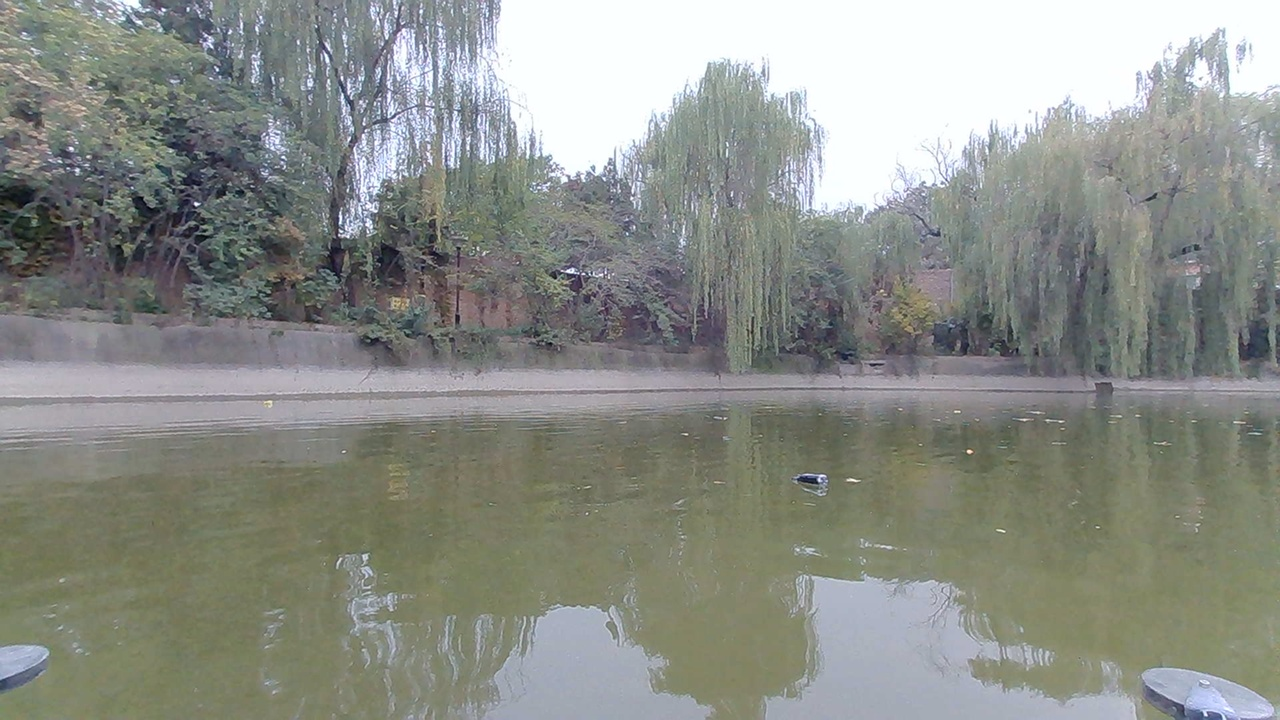bottle: (788, 463, 842, 497)
